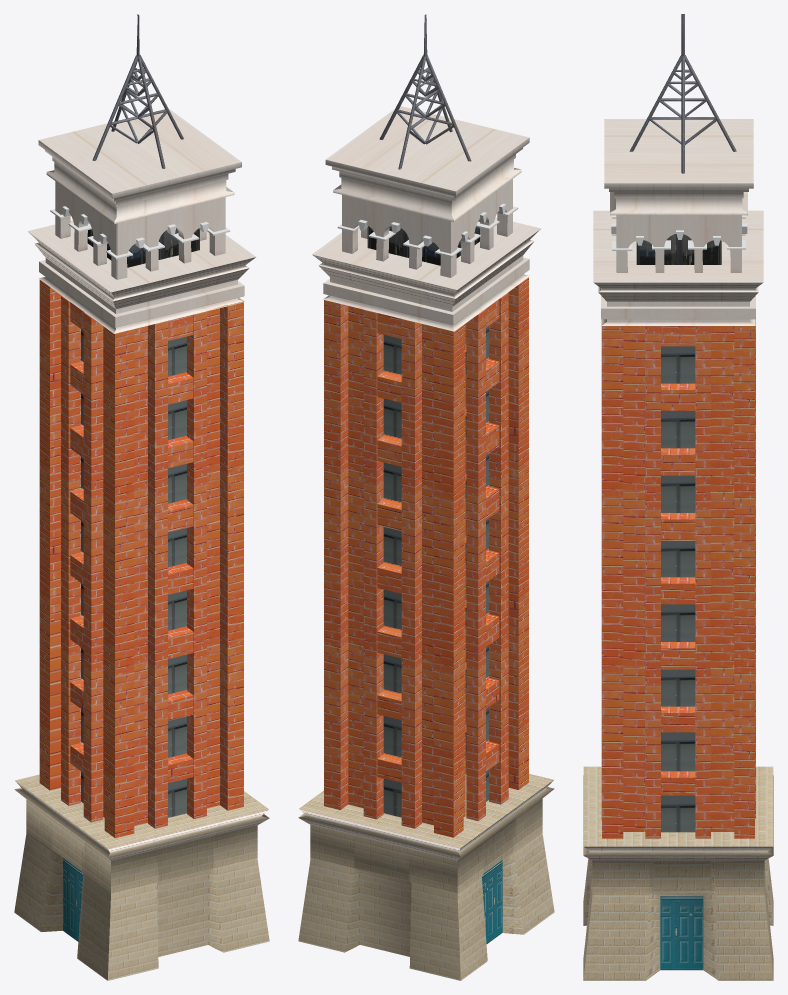
The picture shows the model from 3 angles, left to right: view 1: azimuth 30°, elevation 25°; view 2: azimuth 150°, elevation 25°; view 3: azimuth 270°, elevation 25°; orthographic projection.
Visible parts, largest first — view 1: nurbsCircle4; view 2: nurbsCircle4; view 3: nurbsCircle4.
Part boxes in pixels (box(x1,y1,x2,y2)): nurbsCircle4: box(14, 14, 269, 980); nurbsCircle4: box(298, 14, 554, 980); nurbsCircle4: box(583, 14, 773, 980).
Bounding box in the file's own units: 0.4916 × 2.64 × 0.4916.
8 materials, 8 textured.
